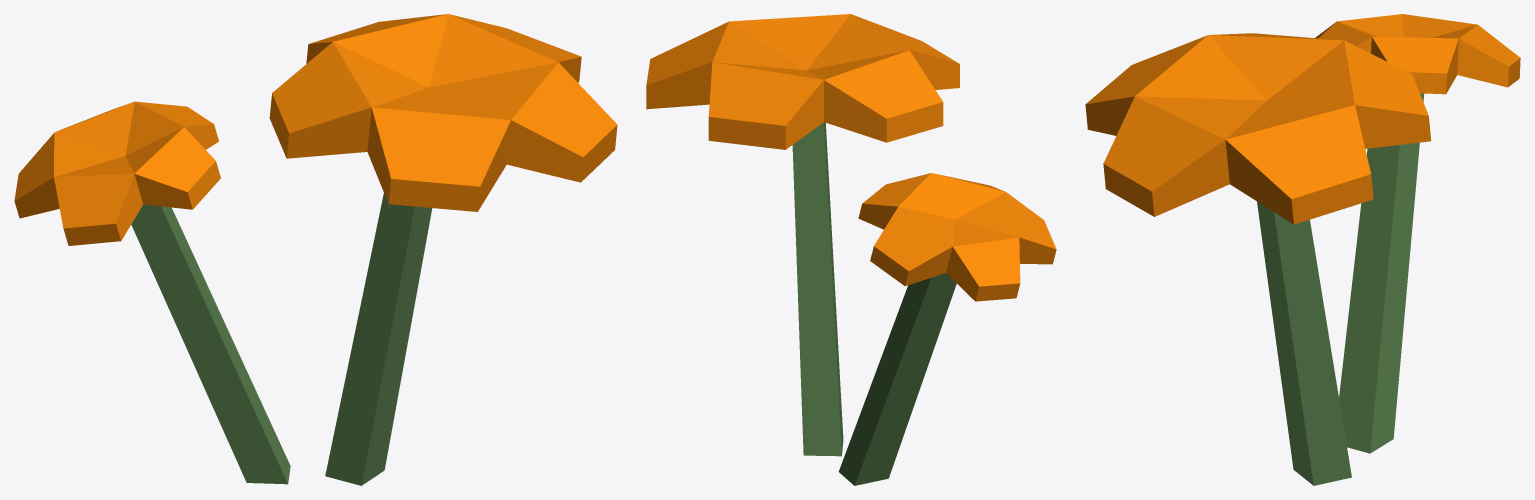
The model's file is flower_3.fbx.
3 views of the same model, side by side, from view 1: azimuth 30°, elevation 25°; view 2: azimuth 150°, elevation 25°; view 3: azimuth 270°, elevation 25° (orthographic). The views are drawn at different scales.
Parts seen in each view (by area): view 1: flower_003; view 2: flower_003; view 3: flower_003.
Part boxes in pixels (bbox=[...]): flower_003: bbox=[14, 14, 617, 485]; flower_003: bbox=[646, 14, 1056, 485]; flower_003: bbox=[1085, 14, 1520, 485].
Bounding box in the file's own units: 0.1197 × 0.099 × 0.0913.
1 material, 1 textured.
